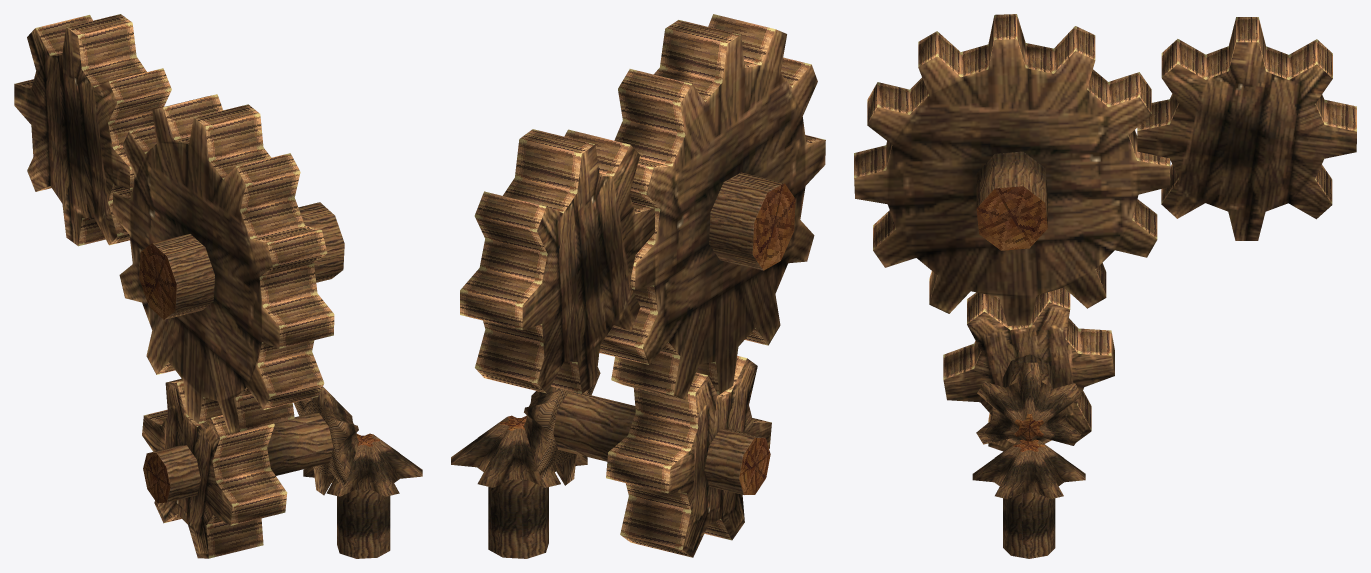
Rendered from INST_SWORDLIGHT_GEARSB.fbx.
The picture shows the model from 3 angles, left to right: view 1: azimuth 30°, elevation 25°; view 2: azimuth 150°, elevation 25°; view 3: azimuth 270°, elevation 25°; orthographic projection. The views are drawn at different scales.
Parts seen in each view (by area): view 1: INST_SWORDLIGHT_GEARSB; view 2: INST_SWORDLIGHT_GEARSB; view 3: INST_SWORDLIGHT_GEARSB.
Boxes of the visible parts, left/top/right/bottom form: INST_SWORDLIGHT_GEARSB: left=14, top=14, right=422, bottom=558; INST_SWORDLIGHT_GEARSB: left=451, top=14, right=825, bottom=558; INST_SWORDLIGHT_GEARSB: left=854, top=14, right=1356, bottom=558.
Bounding box in the file's own units: 19181 × 33397 × 33633.
4 materials, 4 textured.
